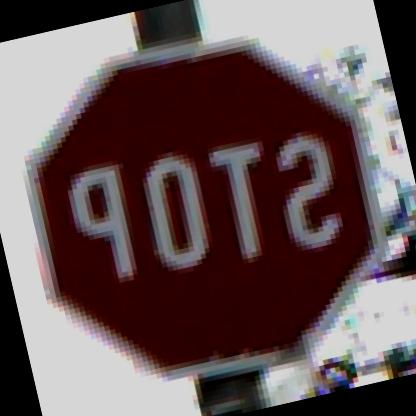stop: (0, 1, 411, 407)
